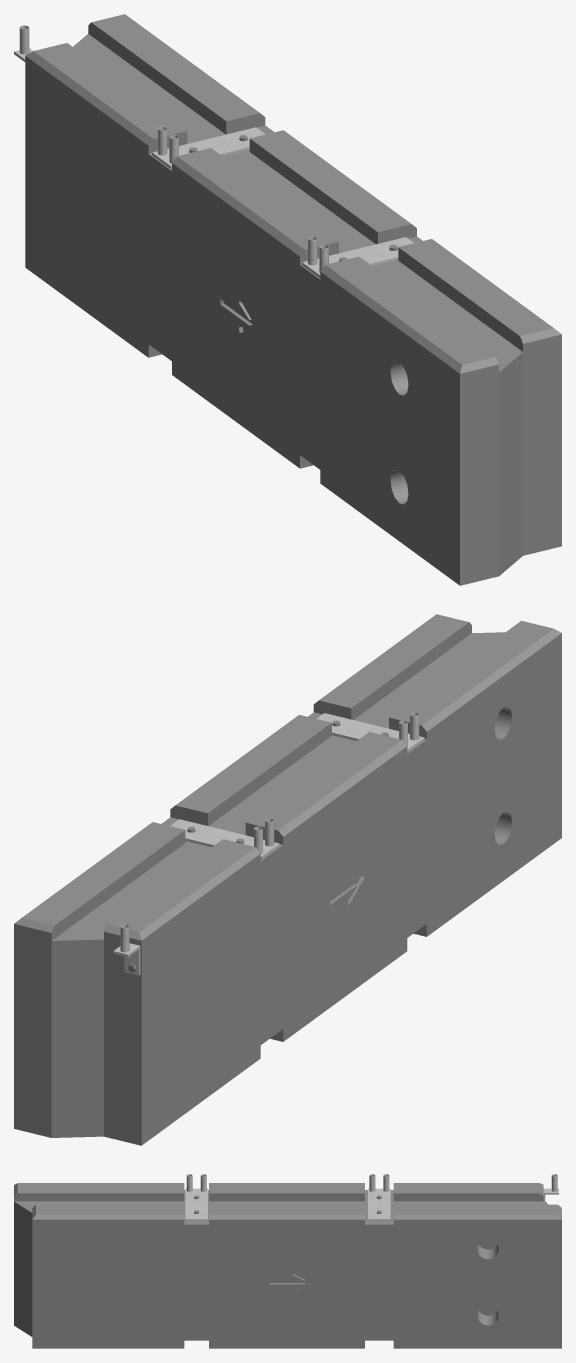
The model's file is SM_Temporary_Vertical_Concrete_Barrier.FBX.
The picture shows the model from 3 angles, top to bottom: view 1: azimuth 30°, elevation 25°; view 2: azimuth 150°, elevation 25°; view 3: azimuth 270°, elevation 25°; orthographic projection. The views are drawn at different scales.
Visible parts, largest first — view 1: Temporary_Vertical_Concrete_Barrier_LOD0, Foot_Connection_Plates_LOD0; view 2: Temporary_Vertical_Concrete_Barrier_LOD0, Foot_Connection_Plates_LOD0, End_Fixing_Brackets_LOD0; view 3: Temporary_Vertical_Concrete_Barrier_LOD0, Foot_Connection_Plates_LOD0.
Boxes of the visible parts, x1=… form: Temporary_Vertical_Concrete_Barrier_LOD0: x1=25, y1=14, x2=561, y2=585; Foot_Connection_Plates_LOD0: x1=152, y1=126, x2=413, y2=277; Temporary_Vertical_Concrete_Barrier_LOD0: x1=14, y1=614, x2=561, y2=1145; Foot_Connection_Plates_LOD0: x1=170, y1=712, x2=424, y2=859; End_Fixing_Brackets_LOD0: x1=113, y1=924, x2=140, y2=975; Temporary_Vertical_Concrete_Barrier_LOD0: x1=14, y1=1183, x2=561, y2=1348; Foot_Connection_Plates_LOD0: x1=185, y1=1174, x2=390, y2=1220.
Size of what is drawn, in the model's own units: 0.45 by 0.852 by 3.
